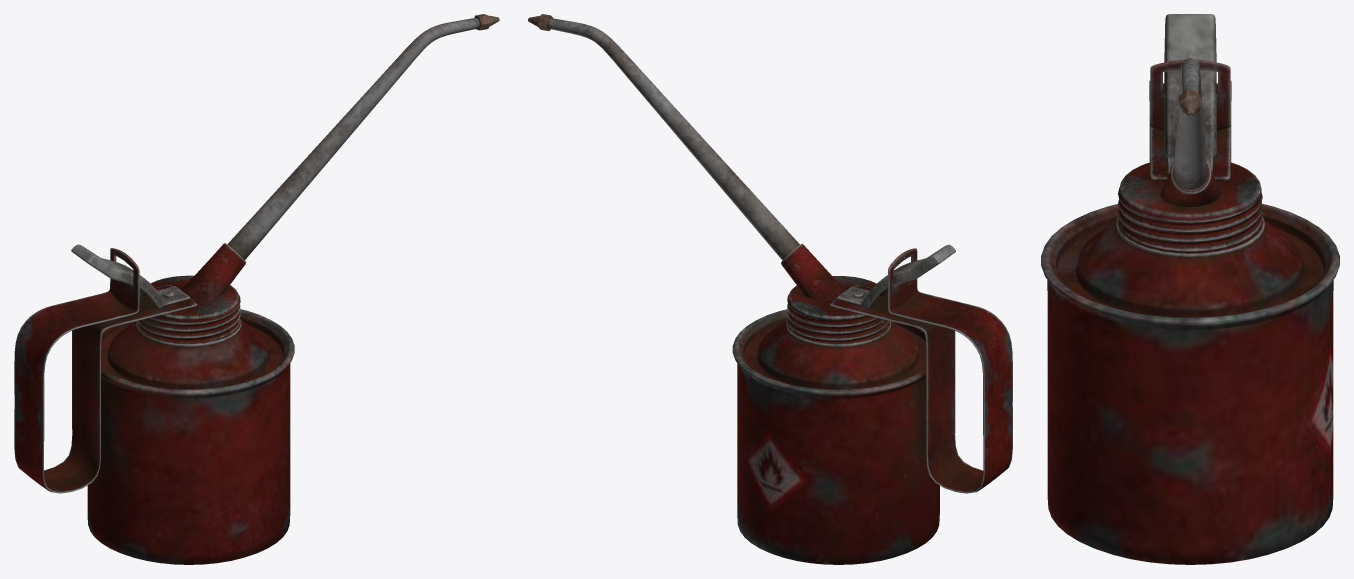
3 renders of one model, left to right at view 1: azimuth 30°, elevation 25°; view 2: azimuth 150°, elevation 25°; view 3: azimuth 270°, elevation 25°, orthographic. The views are drawn at different scales.
Visible parts, largest first — view 1: small_oil_can_01; view 2: small_oil_can_01; view 3: small_oil_can_01.
Part boxes in pixels (x1,y1,x2,y2): small_oil_can_01: (14,14,499,564); small_oil_can_01: (528,14,1012,564); small_oil_can_01: (1041,14,1339,564).
Bounding box in the file's own units: 0.2661 × 0.2368 × 0.1038.
1 material, 1 textured.
